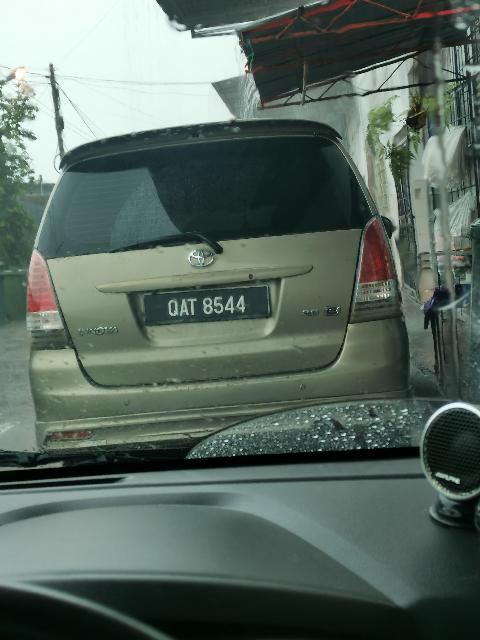License_Plate: (143, 286, 272, 327)
car: (20, 119, 418, 459)
